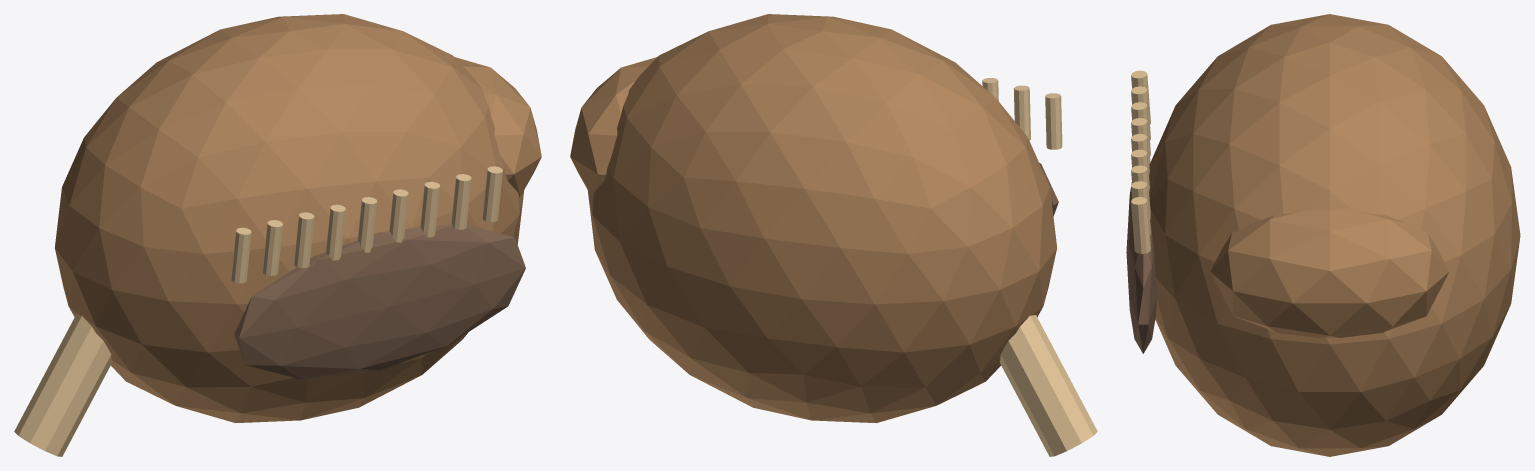
The model's file is craft_mokugyo.glb.
3 views of the same model, side by side, from view 1: azimuth 30°, elevation 25°; view 2: azimuth 150°, elevation 25°; view 3: azimuth 270°, elevation 25° (orthographic). The views are drawn at different scales.
Visible parts, largest first — view 1: Carved elliptical mokugyo walnut, Mokugyo open fish-mouth hollow, Rounded mallet shaft, Twisted carved tail, Fish scale carving.001, Fish scale carving, Fish scale carving.008, Fish scale carving.002, Fish scale carving.007, Fish scale carving.003, Fish scale carving.006, Fish scale carving.004 (+1 smaller); view 2: Carved elliptical mokugyo walnut, Rounded mallet shaft, Twisted carved tail, Fish scale carving, Fish scale carving.001; view 3: Carved elliptical mokugyo walnut, Twisted carved tail, Mokugyo open fish-mouth hollow, Fish scale carving.008.
Boxes of the visible parts, x1,y1,x2,y2 form: Carved elliptical mokugyo walnut: [55, 14, 524, 423]; Mokugyo open fish-mouth hollow: [234, 224, 525, 379]; Rounded mallet shaft: [14, 315, 112, 456]; Twisted carved tail: [455, 57, 541, 196]; Fish scale carving.001: [262, 220, 282, 275]; Fish scale carving: [231, 227, 251, 283]; Fish scale carving.008: [482, 166, 502, 222]; Fish scale carving.002: [294, 212, 314, 268]; Fish scale carving.007: [451, 174, 471, 229]; Fish scale carving.003: [326, 204, 345, 260]; Fish scale carving.006: [420, 181, 439, 237]; Fish scale carving.004: [357, 197, 377, 252]; Carved elliptical mokugyo walnut: [587, 14, 1056, 423]; Rounded mallet shaft: [999, 315, 1097, 456]; Twisted carved tail: [570, 57, 656, 196]; Fish scale carving: [1045, 93, 1062, 149]; Fish scale carving.001: [1013, 85, 1030, 140]; Carved elliptical mokugyo walnut: [1149, 14, 1520, 456]; Twisted carved tail: [1210, 210, 1449, 337]; Mokugyo open fish-mouth hollow: [1126, 182, 1156, 353]; Fish scale carving.008: [1131, 197, 1150, 253].
Bounding box in the file's own units: 1.95 × 1.4 × 1.29.
